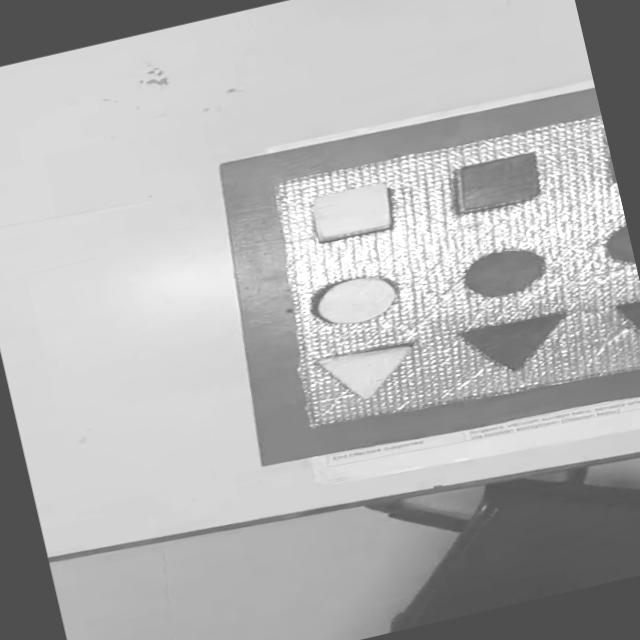mtcircle: (456, 240, 552, 304), (598, 222, 634, 270)
mttriangle: (457, 306, 578, 382), (613, 296, 640, 350)
rcube: (446, 148, 546, 218)
wb: (251, 106, 640, 444)
ycircle: (308, 267, 402, 331)
ycube: (303, 178, 398, 247)
ytriangle: (314, 334, 422, 408)
